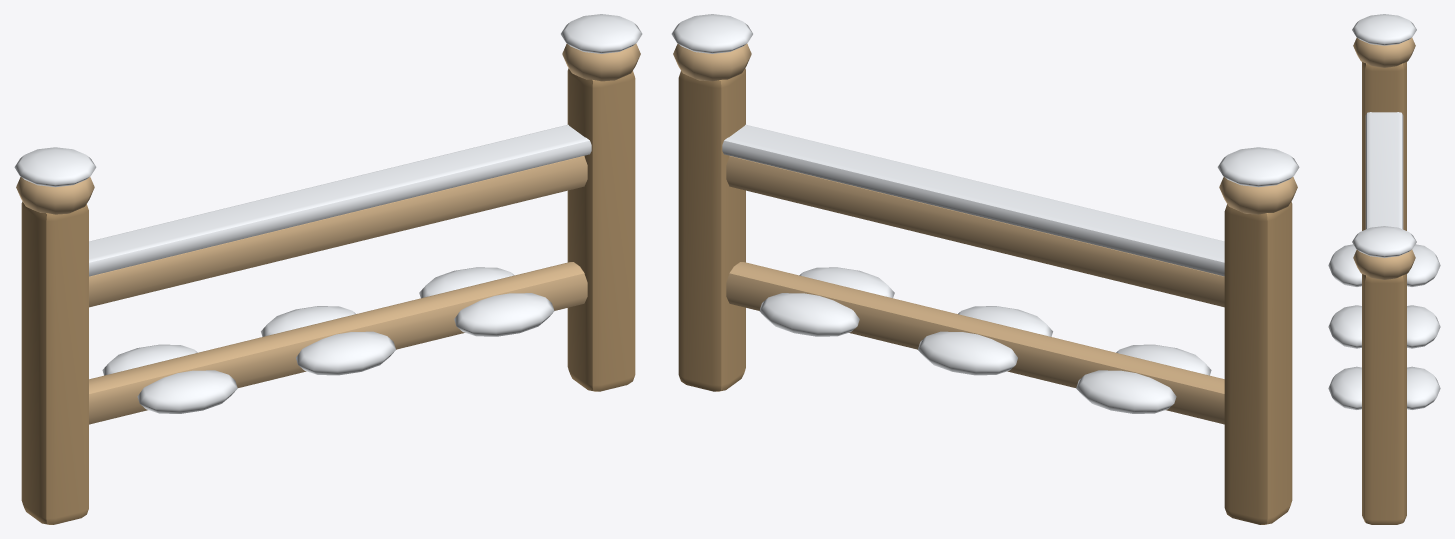
File: fence_winter_v1.glb
3 views of the same model, side by side, from view 1: azimuth 30°, elevation 25°; view 2: azimuth 150°, elevation 25°; view 3: azimuth 270°, elevation 25° (orthographic). The views are drawn at different scales.
Bounding box in the file's own units: 2.26 × 1.26 × 0.4475.
